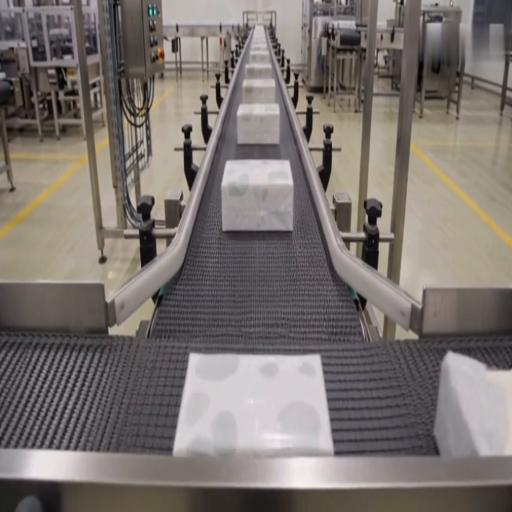defective: (175, 350, 330, 460), (432, 351, 510, 460)
good: (222, 158, 294, 234), (236, 102, 282, 145), (239, 78, 277, 106), (244, 61, 272, 80), (248, 30, 270, 53), (248, 48, 270, 64)
